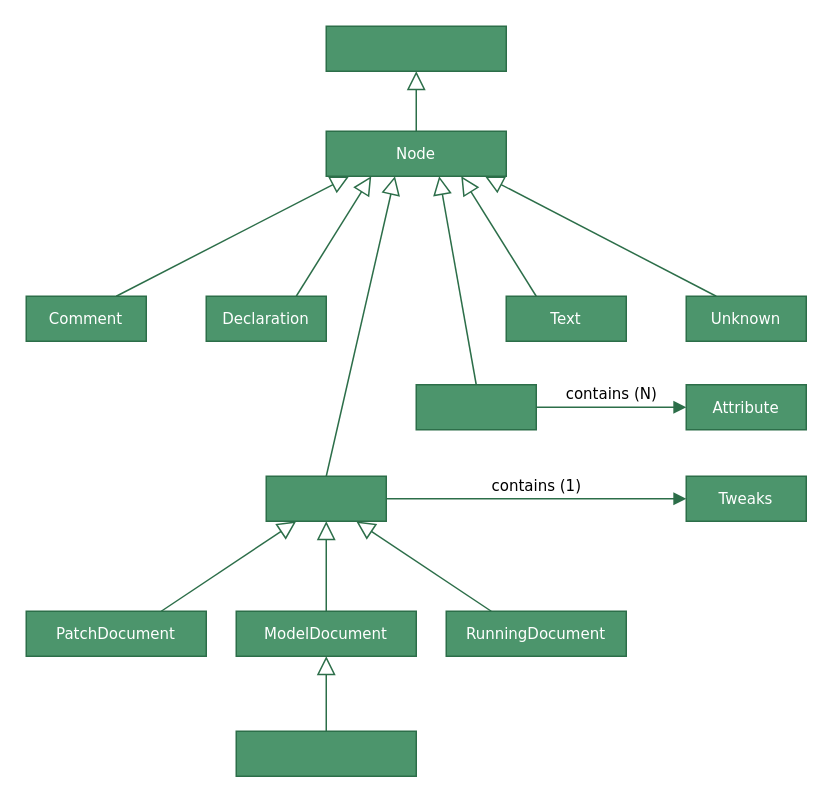
Some shapes in this 833 by 803 pixel diagram are drawn without their labels. Here are the shapes that lost their labels. From the top down, the centre of each, then its label:
the point at 415,48: ts::RingNode
the point at 475,406: Element
the point at 325,498: Document
the point at 325,753: JSONConverter
